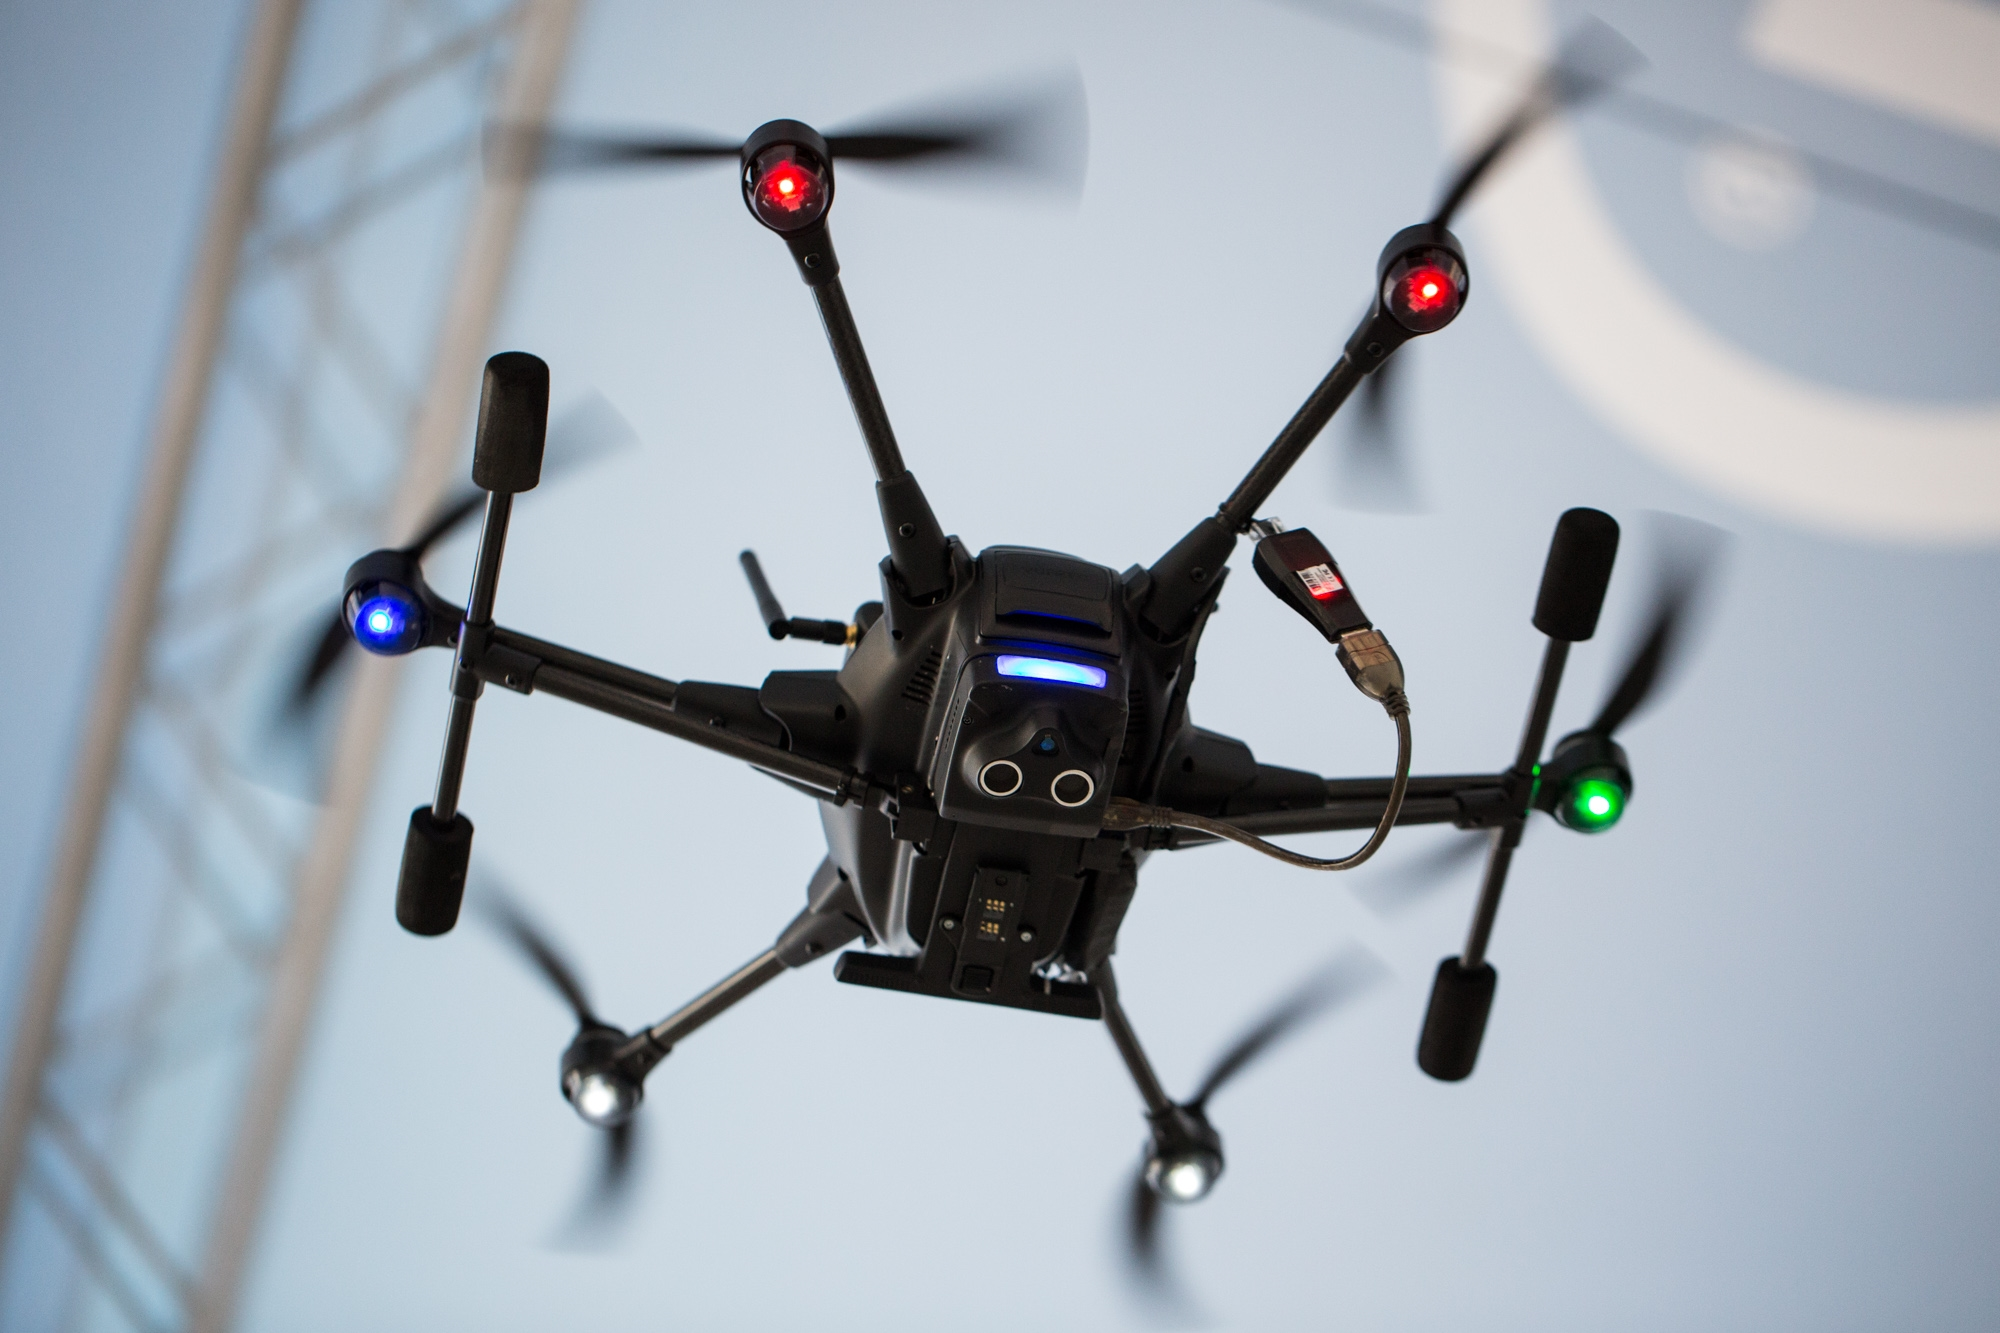drone: (235, 19, 1747, 1260)
